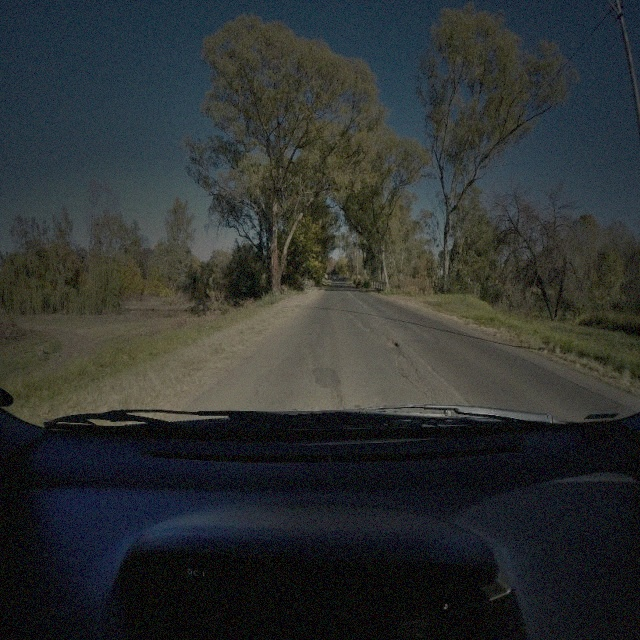pothole: (347, 309, 370, 335), (381, 331, 397, 349)
